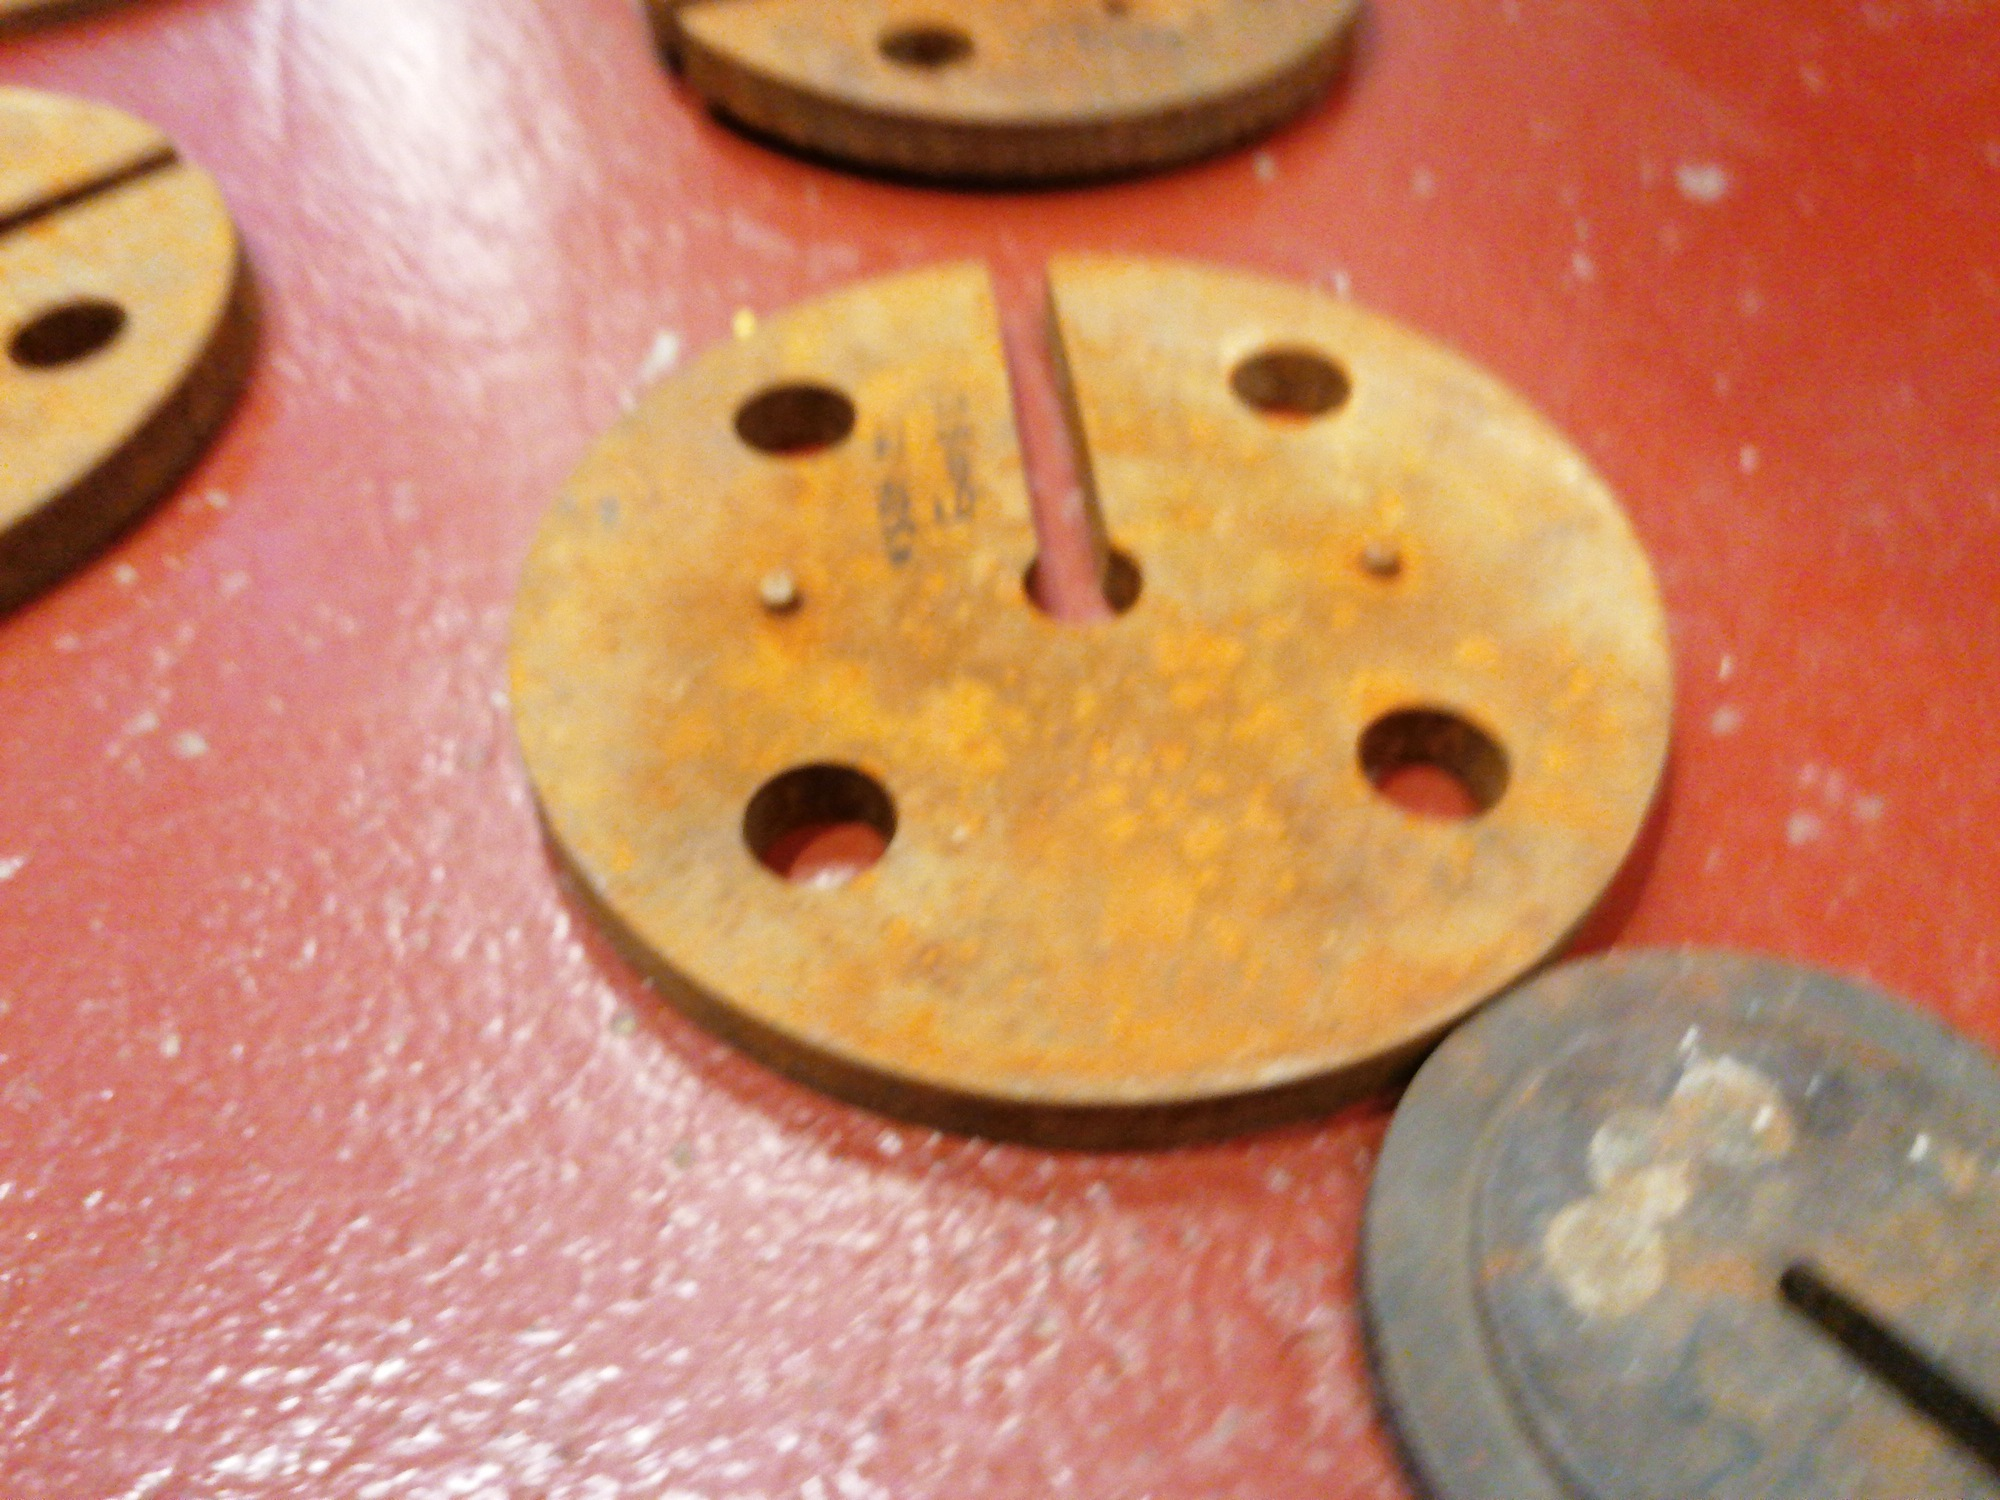flange: (510, 247, 1676, 1150), (1350, 941, 2000, 1498), (0, 84, 258, 613), (639, 2, 1361, 184)
